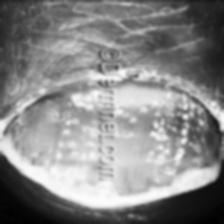Non-Cancerous Skin Condition: (115, 23, 213, 204), (18, 24, 86, 216)
